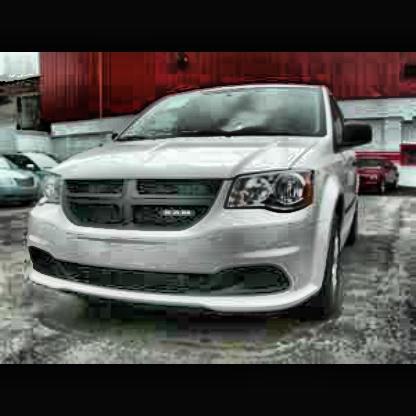Ram C-V Cargo Van Minivan 2012: (28, 85, 380, 324)
